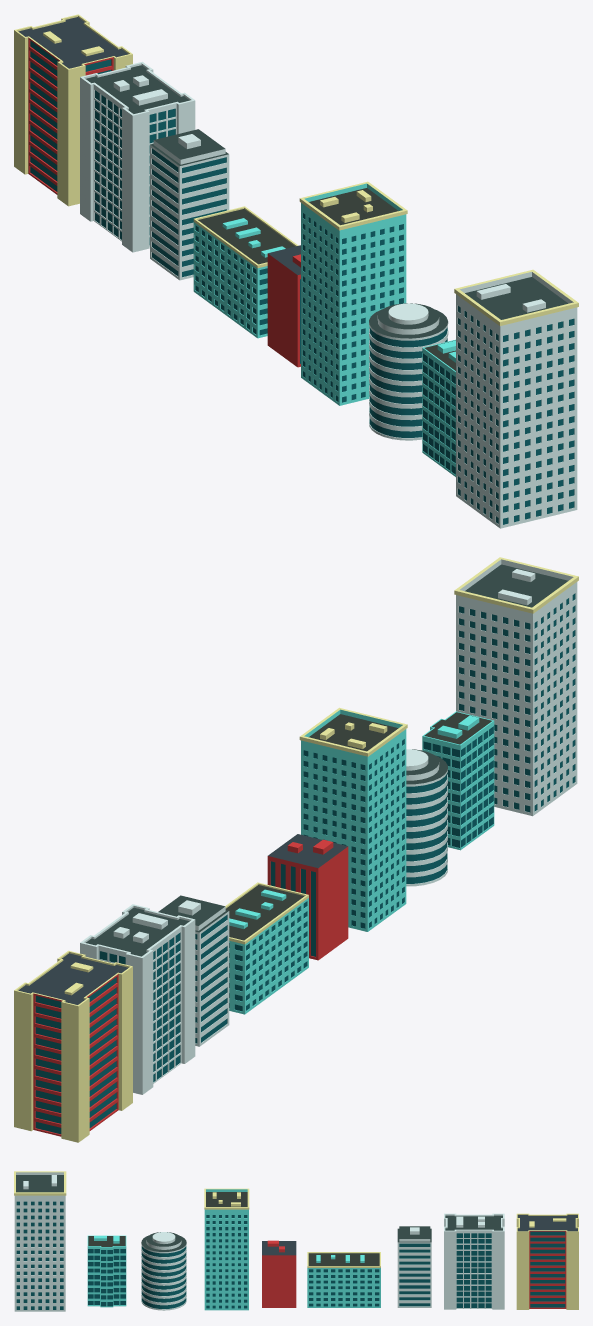
Rendered from BUILDINGS_fbx.FBX.
3 renders of one model, top to bottom at view 1: azimuth 30°, elevation 25°; view 2: azimuth 150°, elevation 25°; view 3: azimuth 270°, elevation 25°, orthographic. The views are drawn at different scales.
Visible parts, largest first — view 1: Box006, Box001, Box007, Box008, Box003, Box002, Cylinder002, Box005, Box004; view 2: Box006, Box008, Box001, Box007, Box002, Box005, Box004, Cylinder002, Box003; view 3: Box006, Box008, Box007, Box001, Box002, Cylinder002, Box005, Box003, Box004.
Part boxes in pixels (x1=…): Box006: x1=454, y1=269, x2=578, y2=528; Box001: x1=299, y1=181, x2=407, y2=405; Box007: x1=80, y1=61, x2=195, y2=252; Box008: x1=14, y1=14, x2=132, y2=206; Box003: x1=150, y1=129, x2=229, y2=280; Box002: x1=193, y1=206, x2=298, y2=338; Cylinder002: x1=369, y1=303, x2=448, y2=440; Box005: x1=422, y1=339, x2=455, y2=476; Box004: x1=267, y1=245, x2=300, y2=367; Box006: x1=454, y1=557, x2=578, y2=816; Box008: x1=14, y1=950, x2=132, y2=1142; Box001: x1=299, y1=707, x2=407, y2=931; Box007: x1=80, y1=904, x2=195, y2=1094; Box002: x1=225, y1=882, x2=308, y2=1014; Box005: x1=422, y1=711, x2=494, y2=850; Box004: x1=267, y1=834, x2=348, y2=960; Cylinder002: x1=406, y1=749, x2=447, y2=886; Box003: x1=158, y1=895, x2=229, y2=1046; Box006: x1=14, y1=1171, x2=66, y2=1311; Box008: x1=516, y1=1213, x2=578, y2=1309; Box007: x1=444, y1=1213, x2=504, y2=1309; Box001: x1=204, y1=1188, x2=249, y2=1310; Box002: x1=307, y1=1252, x2=380, y2=1307; Cylinder002: x1=141, y1=1232, x2=186, y2=1310; Box005: x1=87, y1=1235, x2=126, y2=1307; Box003: x1=397, y1=1226, x2=431, y2=1307; Box004: x1=262, y1=1240, x2=296, y2=1307.
Size of the model in its own units: 217 by 545 by 2347.
